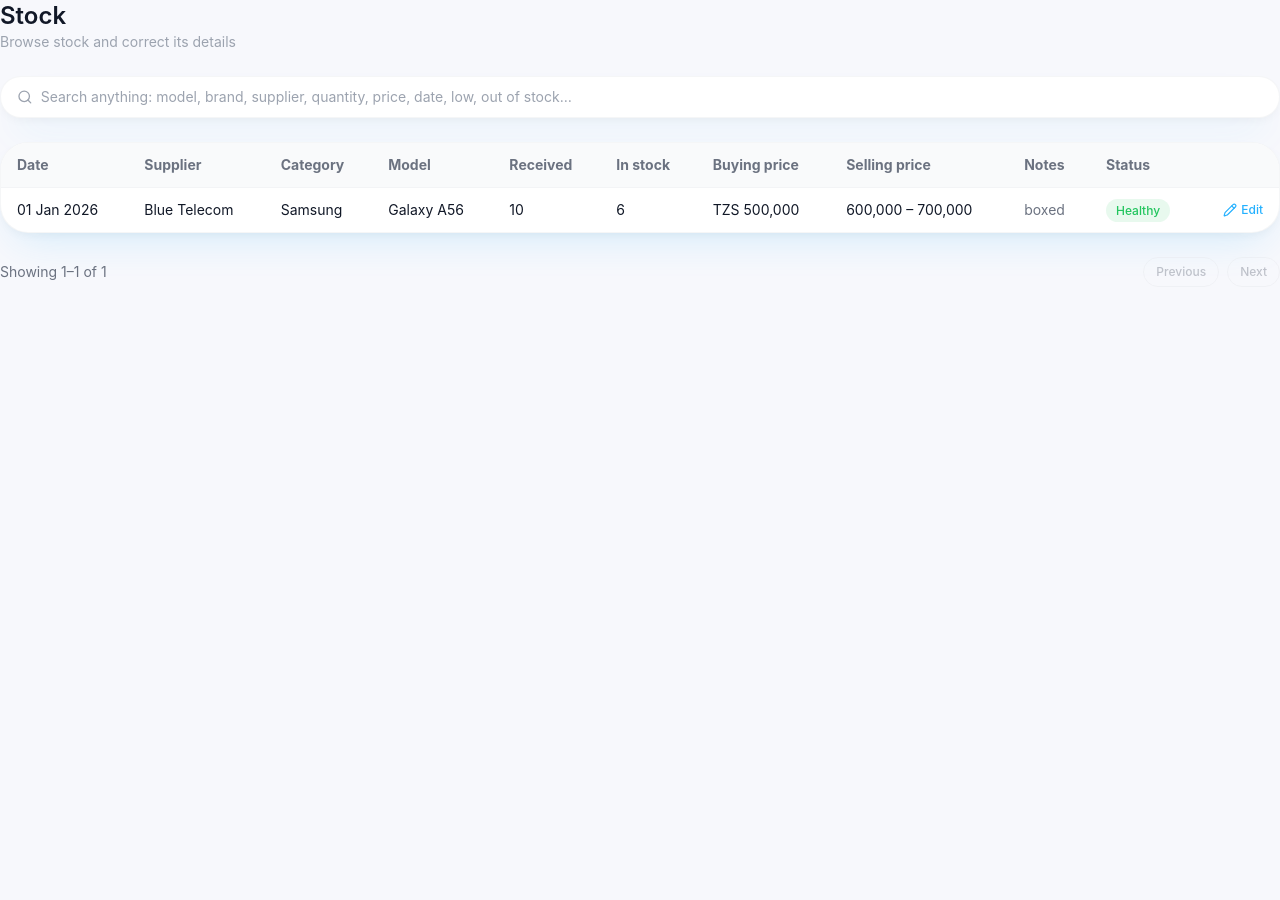
it: Editing a stock line › shows how many will be in stock after the quantity changes
Click the button "Edit": x=1243, y=210 [1223, 202, 1263, 218]
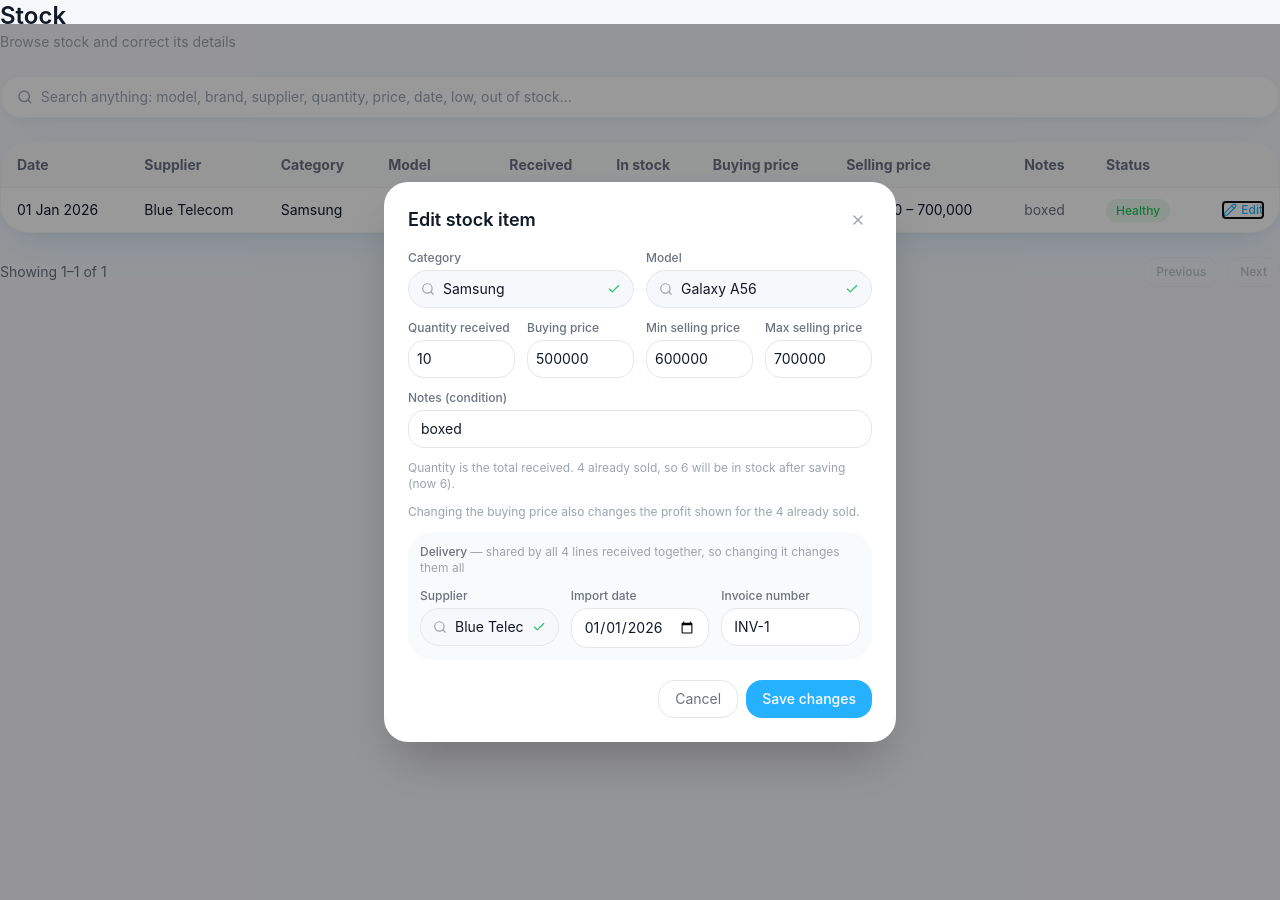
Expected: the text "4 already sold, so 6 will be in stock after saving (now 6)" is shown, [408, 460, 845, 491]
Clear the number field labelled "Quantity received": x=462, y=359 [408, 340, 515, 378]
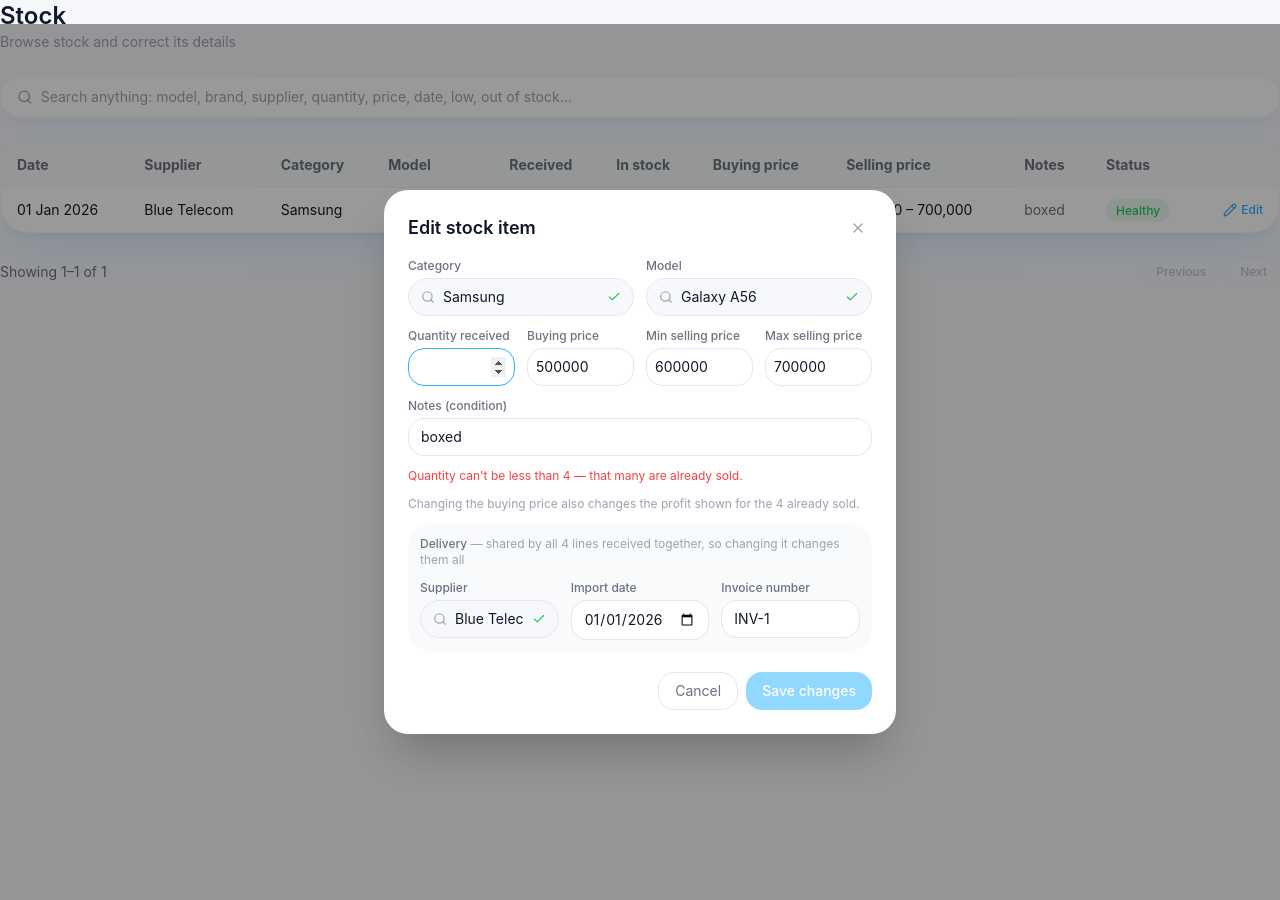
In the number field labelled "Quantity received": x=462, y=367 [408, 348, 515, 386], type "15"
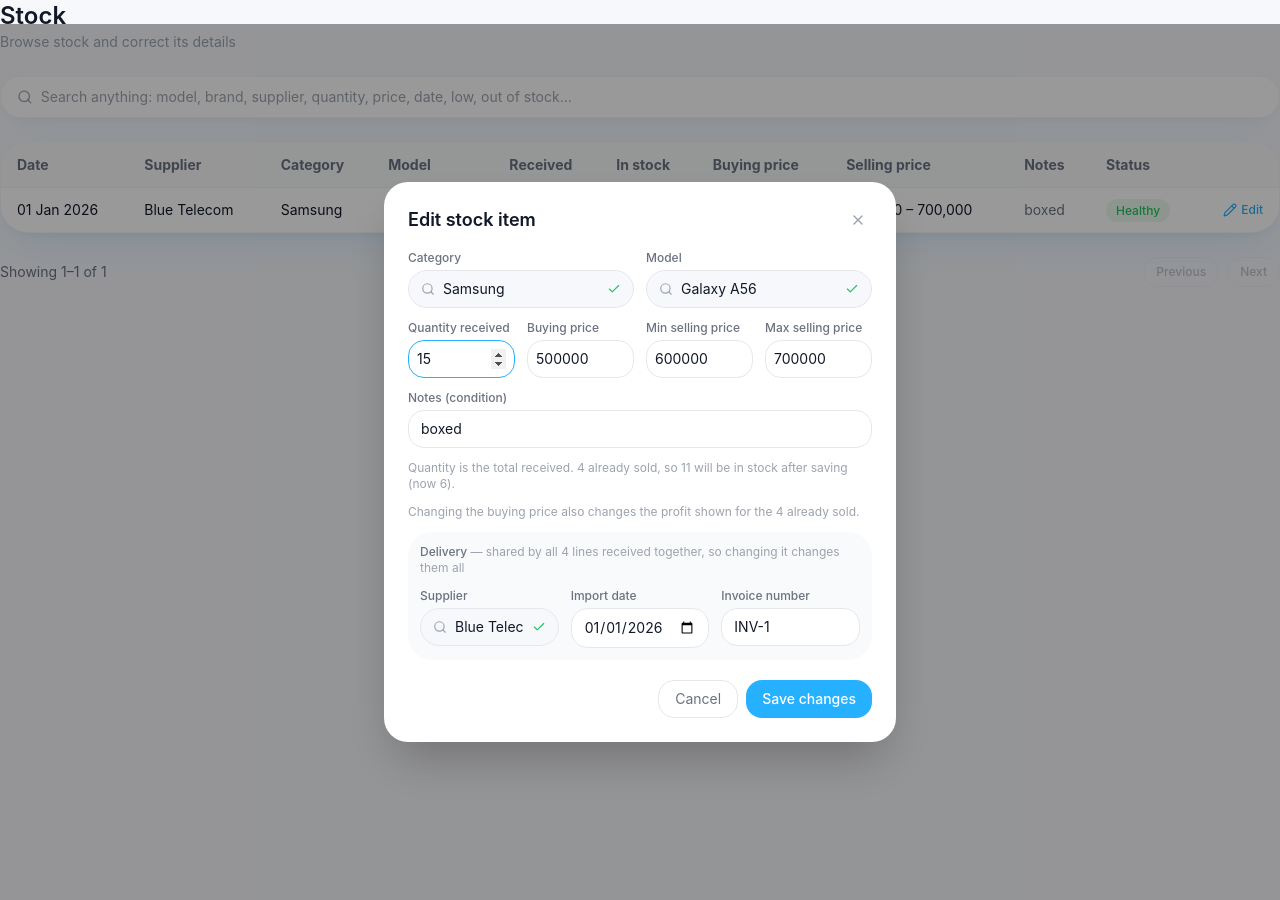
Expected: the text "4 already sold, so 11 will be in stock after saving (now 6)" is shown, [408, 460, 848, 491]
